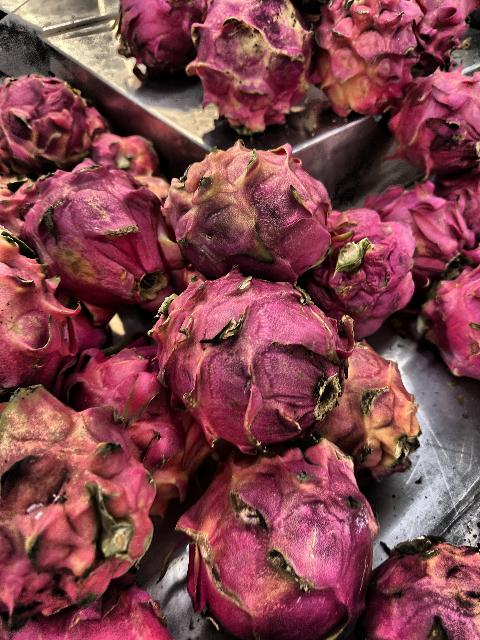buah-naga-belum-matang: (176, 440, 384, 640), (0, 374, 158, 600), (151, 138, 323, 280), (318, 342, 422, 486), (192, 0, 304, 122), (366, 522, 480, 640), (0, 216, 72, 384), (314, 0, 410, 108), (0, 72, 90, 166)
buah-naga-matang: (18, 164, 163, 304), (84, 342, 192, 476), (318, 205, 416, 332), (394, 70, 480, 176), (371, 176, 465, 268), (117, 0, 201, 80), (428, 253, 480, 373), (416, 0, 464, 66)
